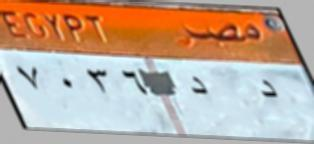0: (55, 75, 78, 101)
3: (84, 63, 110, 103)
6: (114, 69, 152, 100)
7: (15, 60, 43, 98)
daal: (245, 71, 286, 108), (183, 71, 210, 108)
